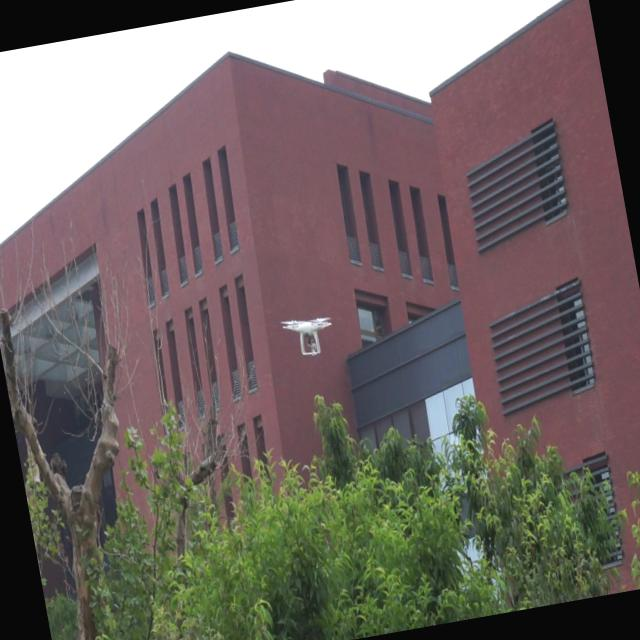drone: (277, 308, 341, 366)
